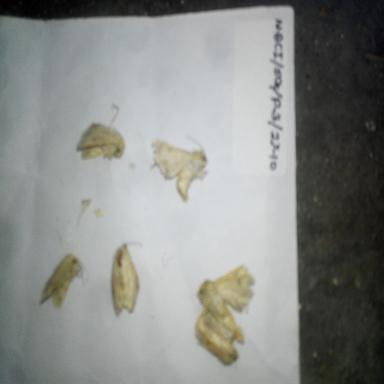abw: (195, 259, 256, 347), (148, 129, 212, 205), (109, 236, 155, 327), (187, 304, 252, 366), (72, 100, 129, 168), (33, 248, 88, 317)
